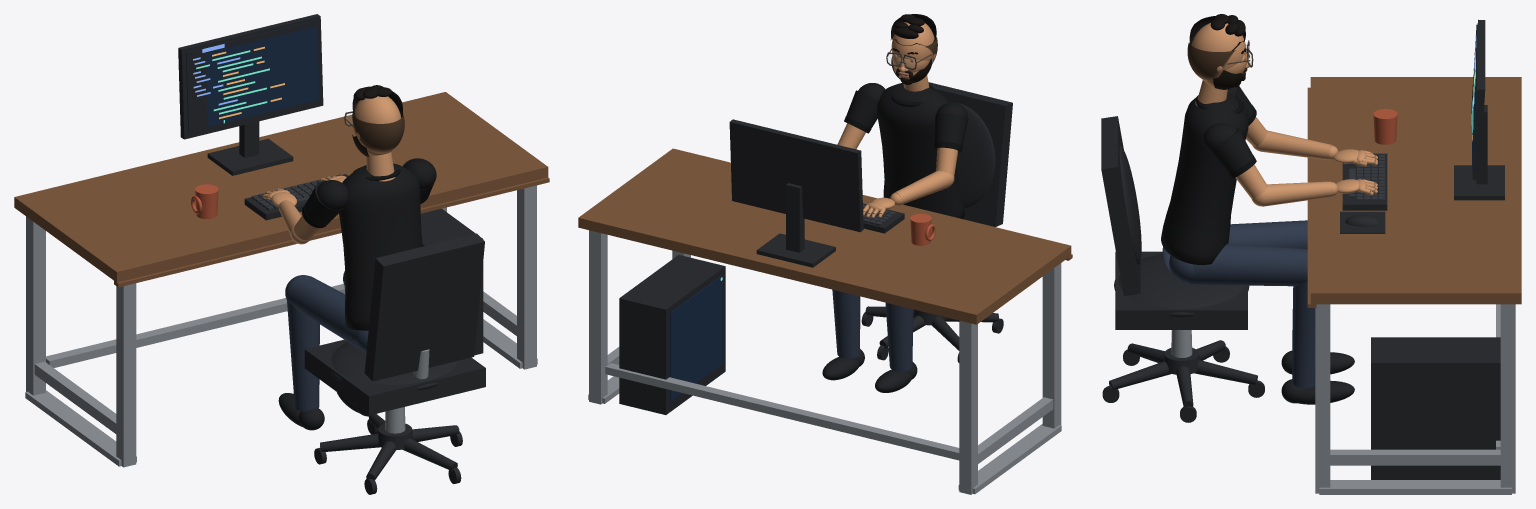
Rendered from character.glb.
3 renders of one model, left to right at view 1: azimuth 30°, elevation 25°; view 2: azimuth 150°, elevation 25°; view 3: azimuth 270°, elevation 25°, orthographic. The views are drawn at different scales.
Visible parts, largest first — view 1: desk_top, back_rest, torso, monitor_screen, seat_pad, desk_leg_front_l, desk_leg_front_r, desk_leg_back_l, desk_brace, monitor_shell, chair, thigh_l (+18 smaller); view 2: desk_top, monitor_shell, tower_case, torso, desk_brace, tower_glass, back_rest, desk_leg_back_l, desk_leg_back_r, desk_leg_front_l, back_pad, desk_foot_l (+13 smaller); view 3: desk_top, tower_case, torso, thigh_r, seat_pad, back_rest, seat_cushion, desk_leg_front_r, desk_leg_back_r, desk_rail_r, chair, desk_foot_r (+22 smaller).
Part boxes in pixels (left/top/right/bottom): desk_top: left=14, top=92, right=548, bottom=282; back_rest: left=364, top=233, right=484, bottom=381; torso: left=339, top=163, right=422, bottom=330; monitor_screen: left=186, top=20, right=319, bottom=131; seat_pad: left=304, top=339, right=485, bottom=415; desk_leg_front_l: left=116, top=283, right=136, bottom=467; desk_leg_front_r: left=517, top=185, right=536, bottom=369; desk_leg_back_l: left=26, top=216, right=45, bottom=395; desk_brace: left=46, top=283, right=344, bottom=367; monitor_shell: left=178, top=14, right=323, bottom=139; chair: left=320, top=414, right=459, bottom=480; thigh_l: left=289, top=275, right=366, bottom=352; desk_top: left=578, top=148, right=1071, bottom=324; monitor_shell: left=729, top=119, right=863, bottom=232; tower_case: left=619, top=255, right=725, bottom=414; torso: left=877, top=83, right=964, bottom=218; desk_brace: left=605, top=363, right=959, bottom=460; tower_glass: left=670, top=275, right=722, bottom=401; back_rest: left=928, top=82, right=1012, bottom=226; desk_leg_back_l: left=959, top=320, right=977, bottom=494; desk_leg_back_r: left=589, top=230, right=607, bottom=404; desk_leg_front_l: left=1042, top=263, right=1061, bottom=428; back_pad: left=950, top=102, right=995, bottom=208; desk_foot_l: left=958, top=424, right=1061, bottom=494; desk_top: left=1310, top=77, right=1521, bottom=304; tower_case: left=1371, top=337, right=1500, bottom=479; torso: left=1161, top=92, right=1248, bottom=264; thigh_r: left=1189, top=244, right=1307, bottom=286; seat_pad: left=1115, top=251, right=1247, bottom=329; back_rest: left=1101, top=116, right=1140, bottom=295; seat_cushion: left=1114, top=254, right=1249, bottom=316; desk_leg_front_r: left=1315, top=304, right=1330, bottom=493; desk_leg_back_r: left=1500, top=304, right=1515, bottom=493; desk_rail_r: left=1330, top=449, right=1500, bottom=465; chair: left=1109, top=340, right=1257, bottom=407; desk_foot_r: left=1319, top=480, right=1511, bottom=494.
Size of the model in its own units: 1.7 by 1.36 by 1.4.
